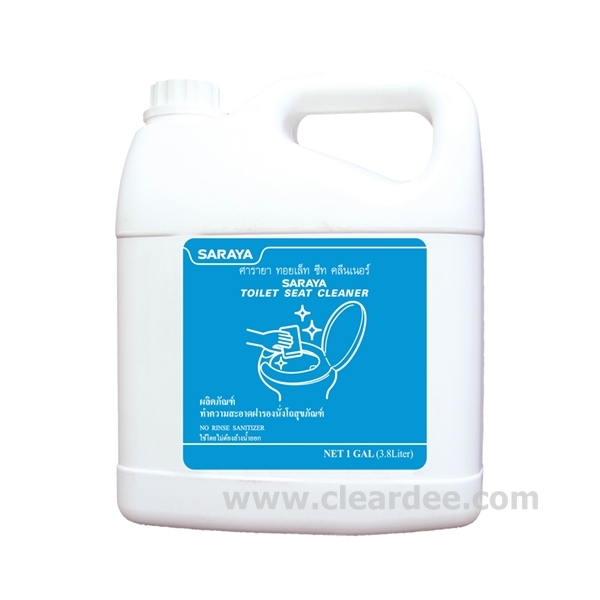Cleaning_solution: (106, 62, 501, 546)
